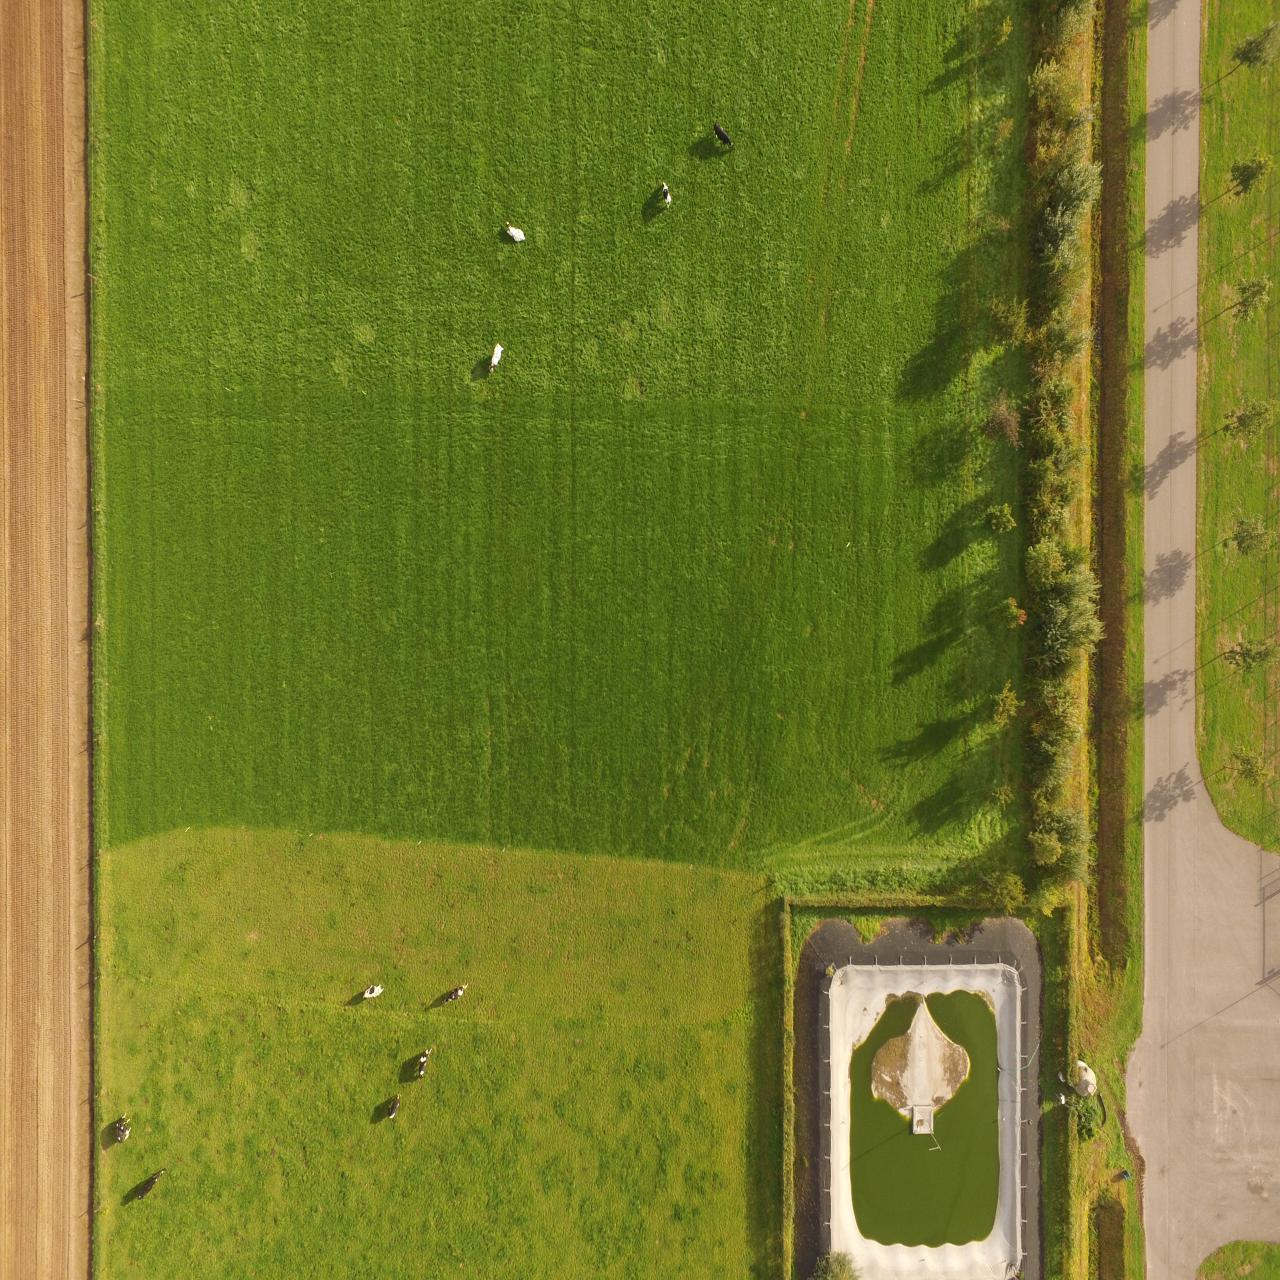cow: (498, 207, 526, 252), (143, 1162, 173, 1200), (377, 1092, 410, 1125), (482, 342, 512, 376), (442, 976, 471, 1012), (108, 1110, 135, 1146), (414, 1040, 435, 1084), (361, 978, 393, 1006), (656, 178, 676, 218), (714, 123, 736, 158)
